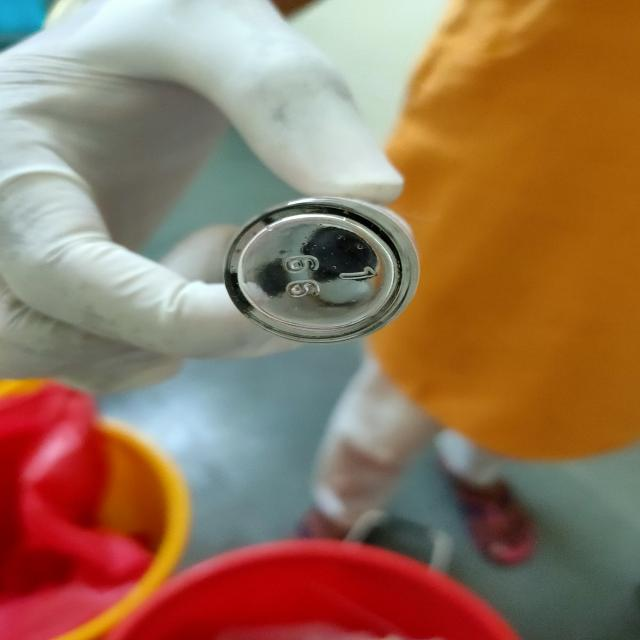B3: (220, 202, 420, 338)
